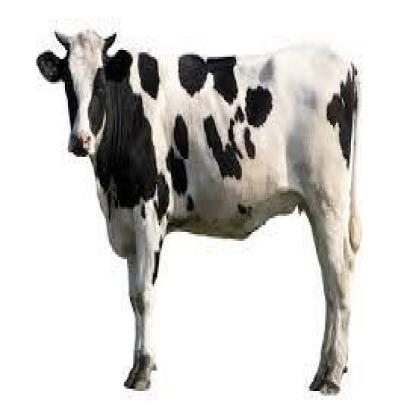cow: (36, 30, 362, 393)
